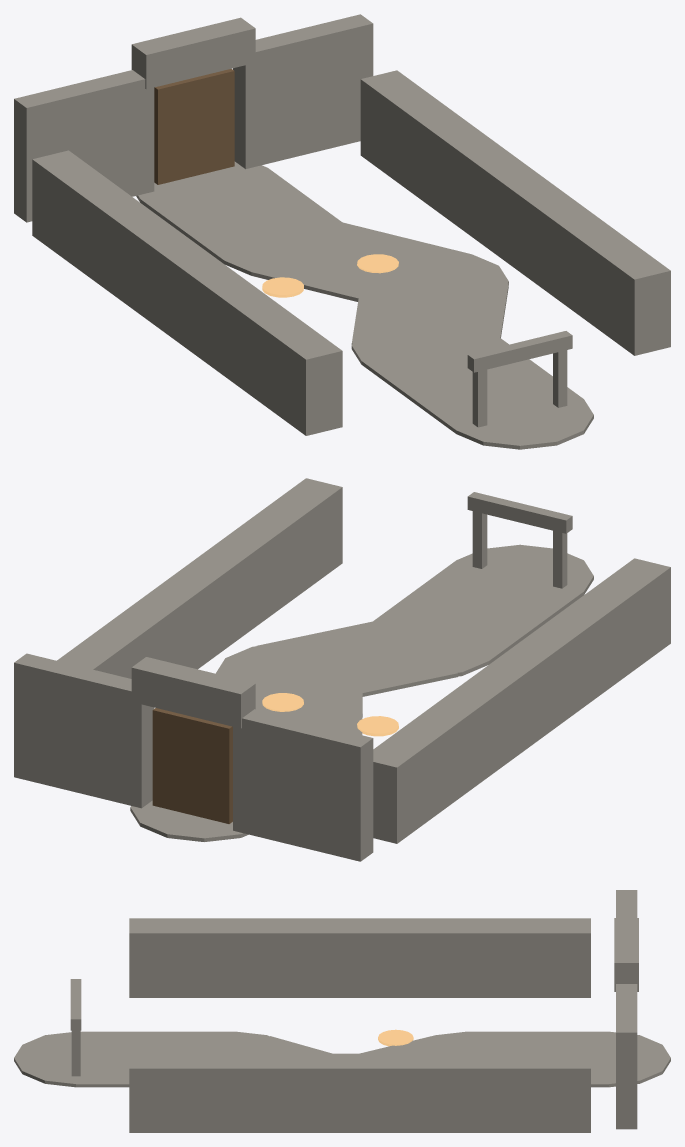
The picture shows the model from 3 angles, top to bottom: view 1: azimuth 30°, elevation 25°; view 2: azimuth 150°, elevation 25°; view 3: azimuth 270°, elevation 25°; orthographic projection. The views are drawn at different scales.
Visible parts, largest first — view 1: rampart, rampart.001, gate_wall_r, gate_wall_l, walk_seg, gate_door, walk_seg.002, walk_seg.003, walk_node.002, walk_node.001, gate_arch, walk_node.003 (+8 smaller); view 2: rampart, rampart.001, gate_wall_l, gate_wall_r, gate_door, walk_node.001, walk_seg, walk_seg.001, walk_node, gate_arch, walk_node.002, walk_seg.002 (+6 smaller); view 3: rampart, rampart.001, walk_node, walk_seg, gate_wall_r, walk_node.004, walk_seg.003, walk_node.001, gate_arch, walk_node.003, walk_seg.002, exit_arch (+4 smaller).
Boxes of the visible parts, bbox=[...] form: rampart: bbox=[32, 150, 342, 435]; rampart.001: bbox=[360, 70, 670, 355]; gate_wall_r: bbox=[233, 14, 373, 169]; gate_wall_l: bbox=[14, 70, 154, 222]; walk_seg: bbox=[361, 338, 583, 433]; gate_door: bbox=[154, 68, 234, 184]; walk_seg.002: bbox=[251, 218, 471, 307]; walk_seg.003: bbox=[140, 168, 349, 263]; walk_node.002: bbox=[361, 252, 508, 312]; walk_node.001: bbox=[351, 316, 498, 376]; gate_arch: bbox=[131, 17, 255, 89]; walk_node.003: bbox=[215, 214, 360, 276]; rampart: bbox=[373, 558, 670, 843]; rampart.001: bbox=[57, 478, 342, 678]; gate_wall_l: bbox=[233, 709, 373, 861]; gate_wall_r: bbox=[14, 653, 154, 808]; gate_door: bbox=[152, 708, 232, 823]; walk_node.001: bbox=[351, 614, 498, 676]; walk_seg: bbox=[362, 561, 583, 664]; walk_seg.001: bbox=[257, 620, 457, 701]; walk_node: bbox=[446, 544, 593, 606]; gate_arch: bbox=[131, 657, 255, 728]; walk_node.002: bbox=[216, 642, 362, 702]; walk_seg.002: bbox=[220, 674, 362, 734]; rampart: bbox=[129, 918, 590, 997]; rampart.001: bbox=[129, 1053, 590, 1132]; walk_node: bbox=[14, 1032, 135, 1087]; walk_seg: bbox=[76, 1031, 235, 1087]; gate_wall_r: bbox=[616, 984, 637, 1129]; walk_node.004: bbox=[549, 1031, 670, 1087]; walk_seg.003: bbox=[466, 1031, 608, 1087]; walk_node.001: bbox=[176, 1031, 294, 1053]; gate_arch: bbox=[614, 918, 638, 991]; walk_node.003: bbox=[436, 1031, 525, 1053]; walk_seg.002: bbox=[360, 1035, 460, 1053]; exit_arch: bbox=[70, 979, 81, 1030].
Size of the model in its own units: 20 by 7.5 by 37.
